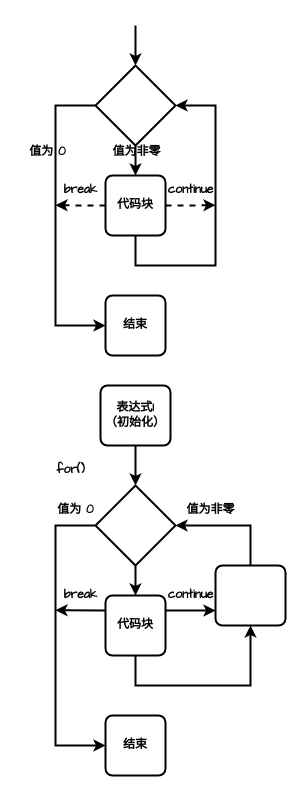
Image size: 303x793. Some labels were removed from this diagram. The shapes that lost their labels are listed below. From the top down, each one's centre as x and y in pixels, then its label:
At [135,105]: "while(表达式)".
At [135,525]: "表达式2 （判断）".
At [250,595]: "表达式3 （调整）".
